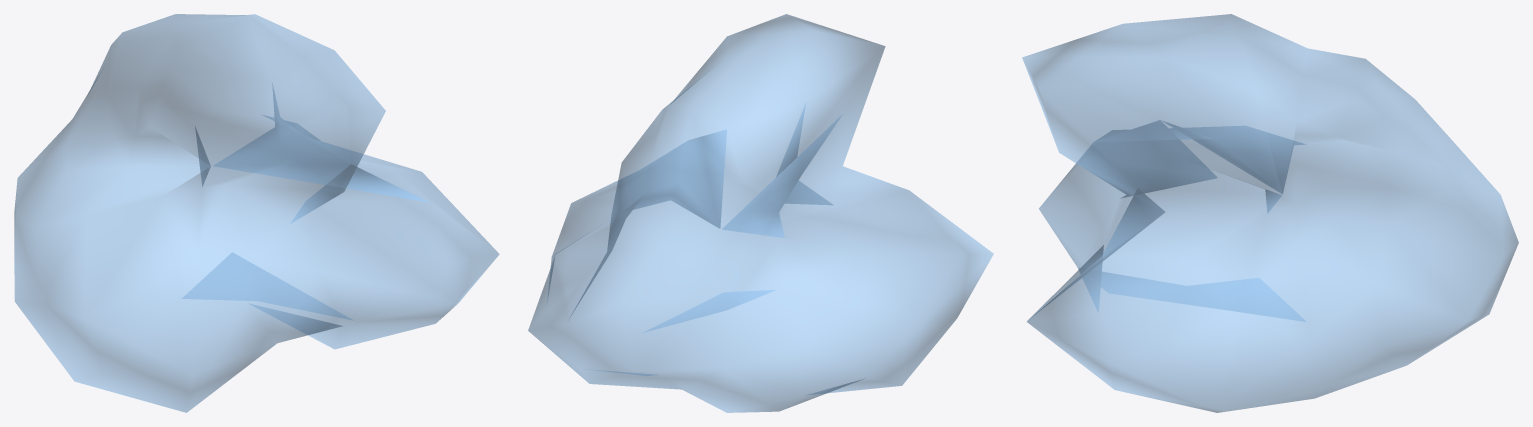
The model's file is mtiamat_shield.gltf.
3 renders of one model, left to right at view 1: azimuth 30°, elevation 25°; view 2: azimuth 150°, elevation 25°; view 3: azimuth 270°, elevation 25°, orthographic. The views are drawn at different scales.
Parts seen in each view (by area): view 1: mtiamat.shield; view 2: mtiamat.shield; view 3: mtiamat.shield.
Boxes of the visible parts, <box> form: mtiamat.shield: <box>14,14,499,412</box>; mtiamat.shield: <box>528,14,993,412</box>; mtiamat.shield: <box>1022,14,1518,412</box>.
Size of the model in its own units: 31.4 by 23.78 by 32.93.
